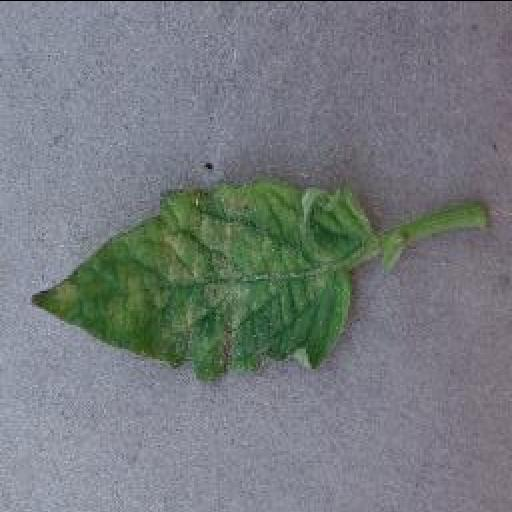disease_tomato: (28, 178, 378, 388)
